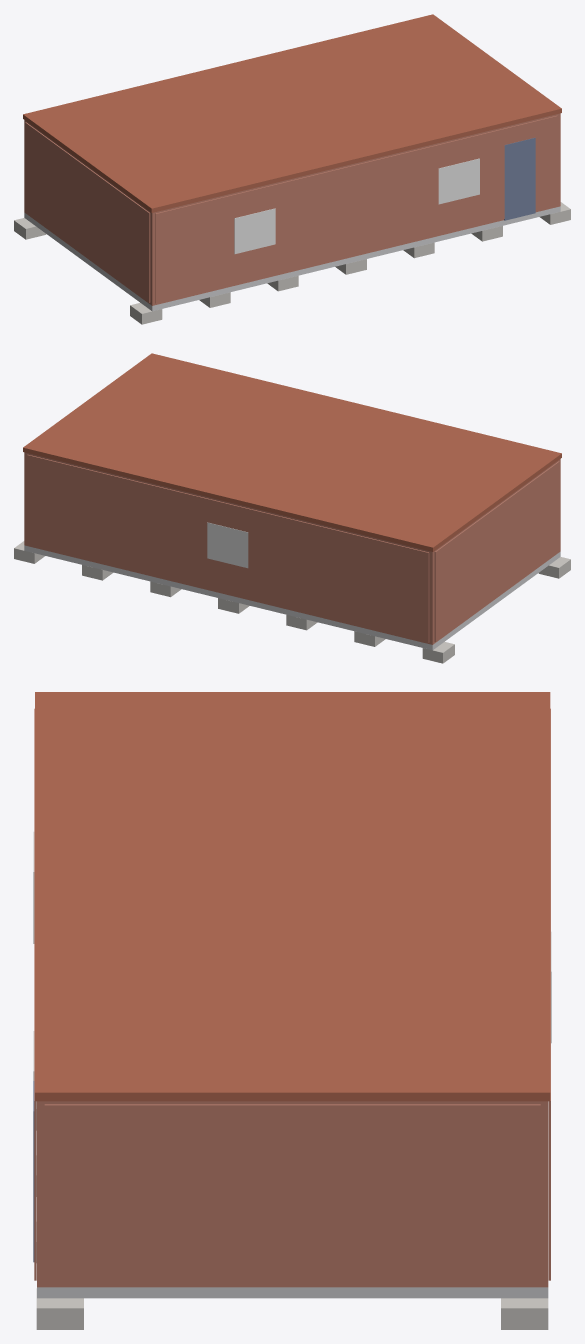
Rendered from Studio-40-Base-OxidisedRed-LOD2.glb.
The picture shows the model from 3 angles, top to bottom: view 1: azimuth 30°, elevation 25°; view 2: azimuth 150°, elevation 25°; view 3: azimuth 270°, elevation 25°; orthographic projection. The views are drawn at different scales.
Visible parts, largest first — view 1: RoofMain, ExteriorPanelsStandard, BaseFrame, WindowsStandard, ExteriorShell, FoundationBlocks, EntryDoor; view 2: RoofMain, ExteriorPanelsStandard, BaseFrame, ExteriorShell, FoundationBlocks, WindowsStandard; view 3: RoofMain, ExteriorPanelsStandard, ExteriorShell, BaseFrame, FoundationBlocks.
Part boxes in pixels (x1,y1,x2,y2): RoofMain: (23,14,561,212); ExteriorPanelsStandard: (25,115,557,303); BaseFrame: (24,206,560,311); WindowsStandard: (234,158,479,254); ExteriorShell: (24,113,560,305); FoundationBlocks: (14,202,570,324); EntryDoor: (504,137,535,220); RoofMain: (23,353,561,551); ExteriorPanelsStandard: (27,454,559,642); BaseFrame: (24,545,560,650); ExteriorShell: (24,452,560,644); FoundationBlocks: (14,541,570,663); WindowsStandard: (207,522,248,568); RoofMain: (35,692,550,1101); ExteriorPanelsStandard: (34,708,550,1284); ExteriorShell: (37,1101,548,1287); BaseFrame: (37,1287,548,1298); FoundationBlocks: (36,1101,548,1329).
Size of the model in its own units: 12.49 by 3.17 by 6.53.
